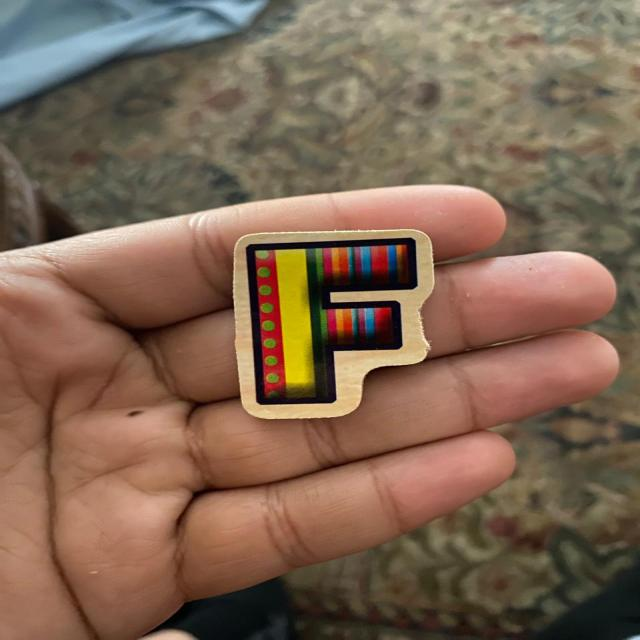F: (233, 229, 433, 419)
